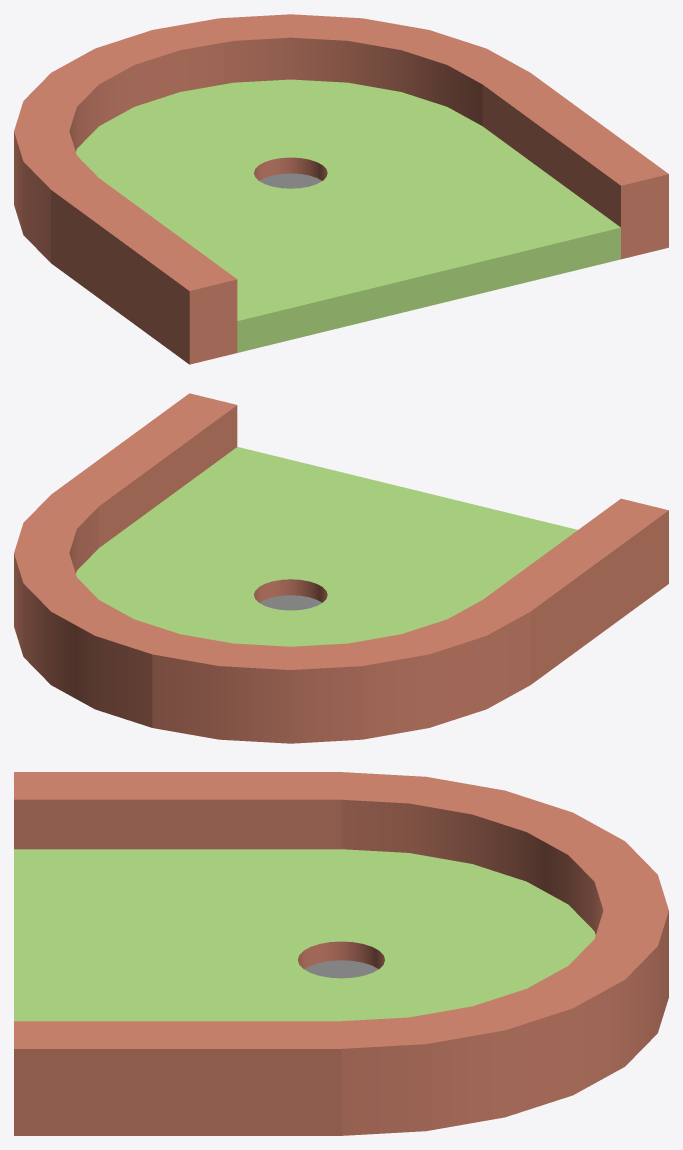
The model's file is Hole_round_01.glb.
3 views of the same model, one above another, from view 1: azimuth 30°, elevation 25°; view 2: azimuth 150°, elevation 25°; view 3: azimuth 270°, elevation 25° (orthographic). The views are drawn at different scales.
Parts seen in each view (by area): view 1: Mesh1 Hole_round Model; view 2: Mesh1 Hole_round Model; view 3: Mesh1 Hole_round Model.
Boxes of the visible parts, bbox=[...] form: Mesh1 Hole_round Model: bbox=[14, 14, 668, 364]; Mesh1 Hole_round Model: bbox=[14, 393, 668, 743]; Mesh1 Hole_round Model: bbox=[14, 772, 668, 1135].
Size of the model in its own units: 3 by 0.44 by 3.
